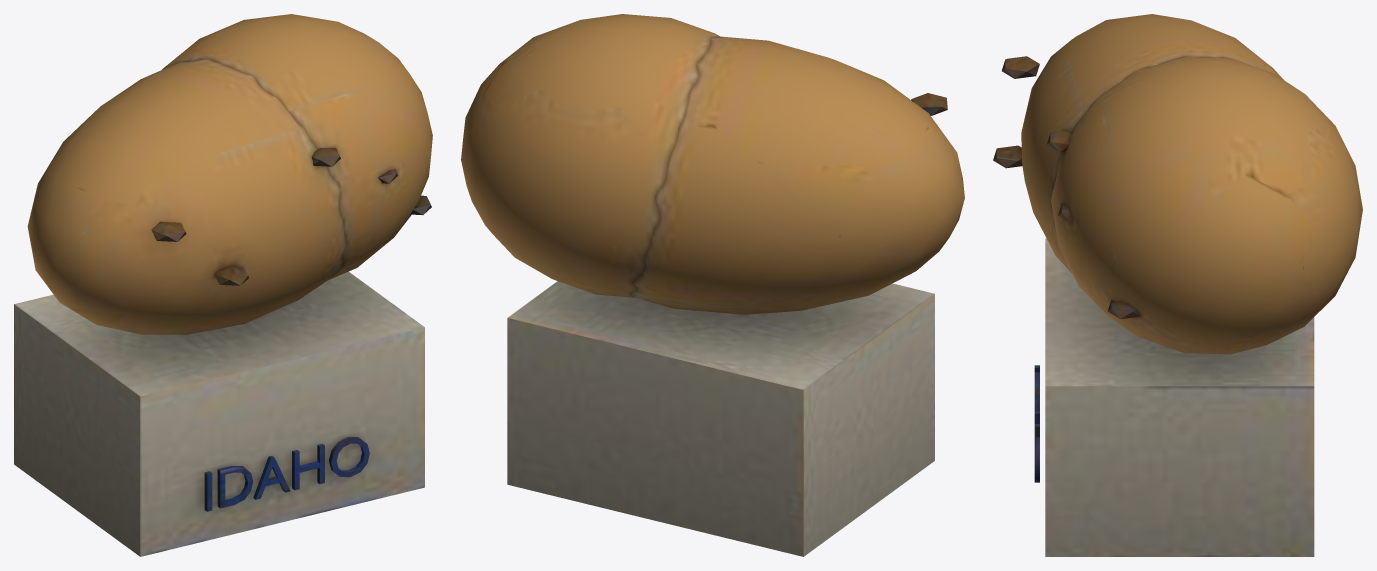
The model's file is patata_acera.glb.
The picture shows the model from 3 angles, left to right: view 1: azimuth 30°, elevation 25°; view 2: azimuth 150°, elevation 25°; view 3: azimuth 270°, elevation 25°; orthographic projection. The views are drawn at different scales.
Parts seen in each view (by area): view 1: patata_acera; view 2: patata_acera; view 3: patata_acera.
Part boxes in pixels (x1,y1,x2,y2): patata_acera: (14,14,432,556); patata_acera: (461,14,964,556); patata_acera: (993,14,1362,556).
Size of the model in its own units: 1.9 by 1.83 by 1.38.
Materials: 1 (1 with a texture image).
